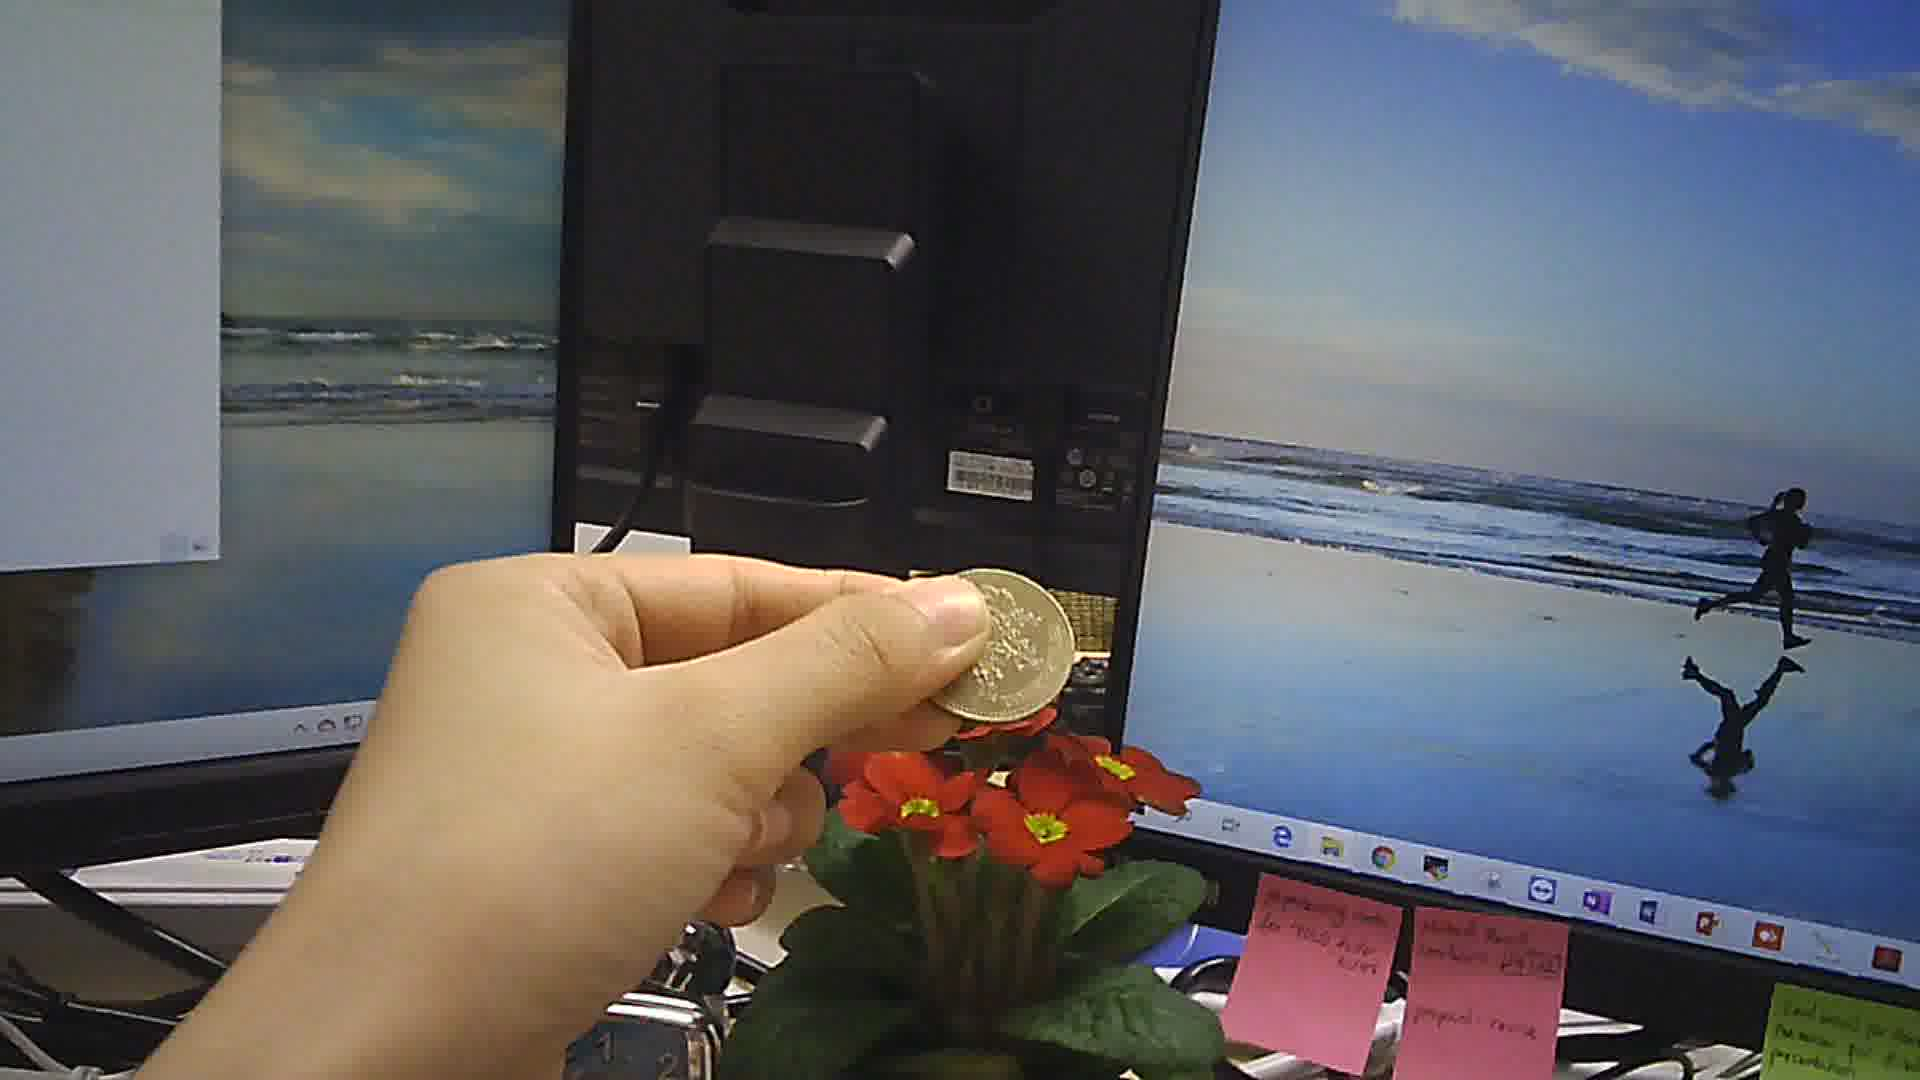500 Yen: (913, 559, 1081, 721)
